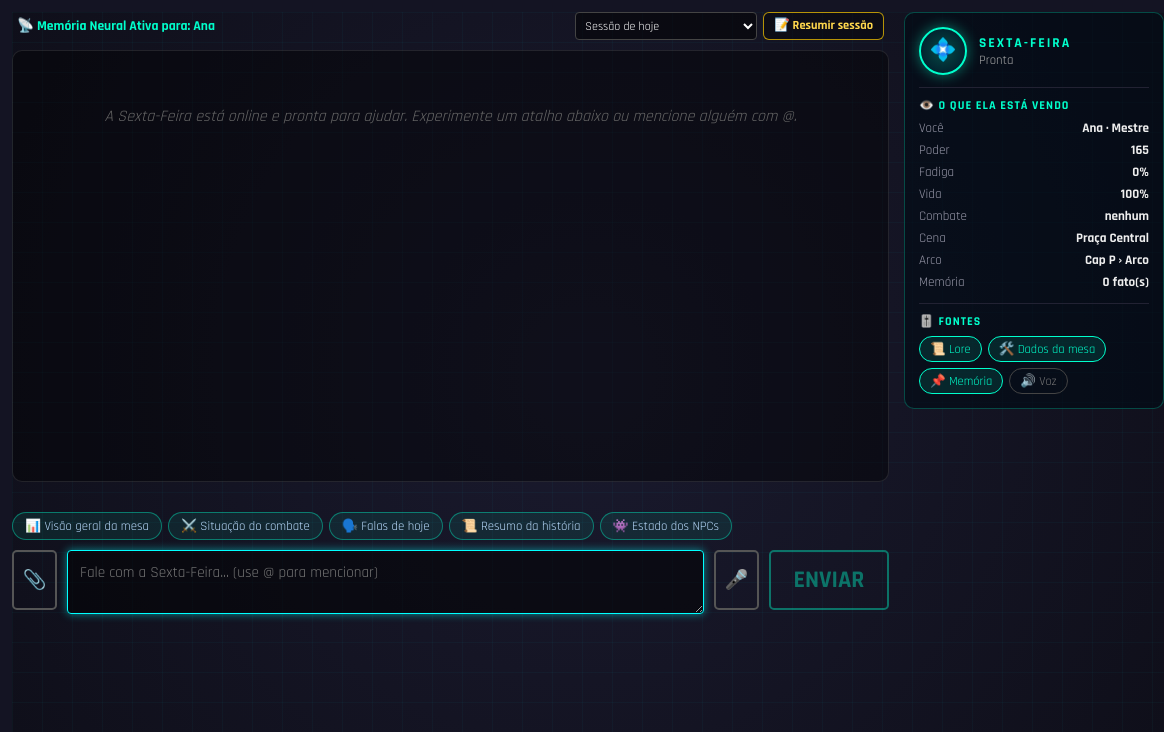
Scenario: CartaoProposta - Mestre › NPC mostra quantidade e cena; Tier List mostra capitulo e a lista de ranks
The width and height of the screenshot is (1164, 732).
Step 1. Type "crie algo" into the text box named "Mensagem para a Sexta-Feira" → x=386, y=582, box [67,550,704,614]
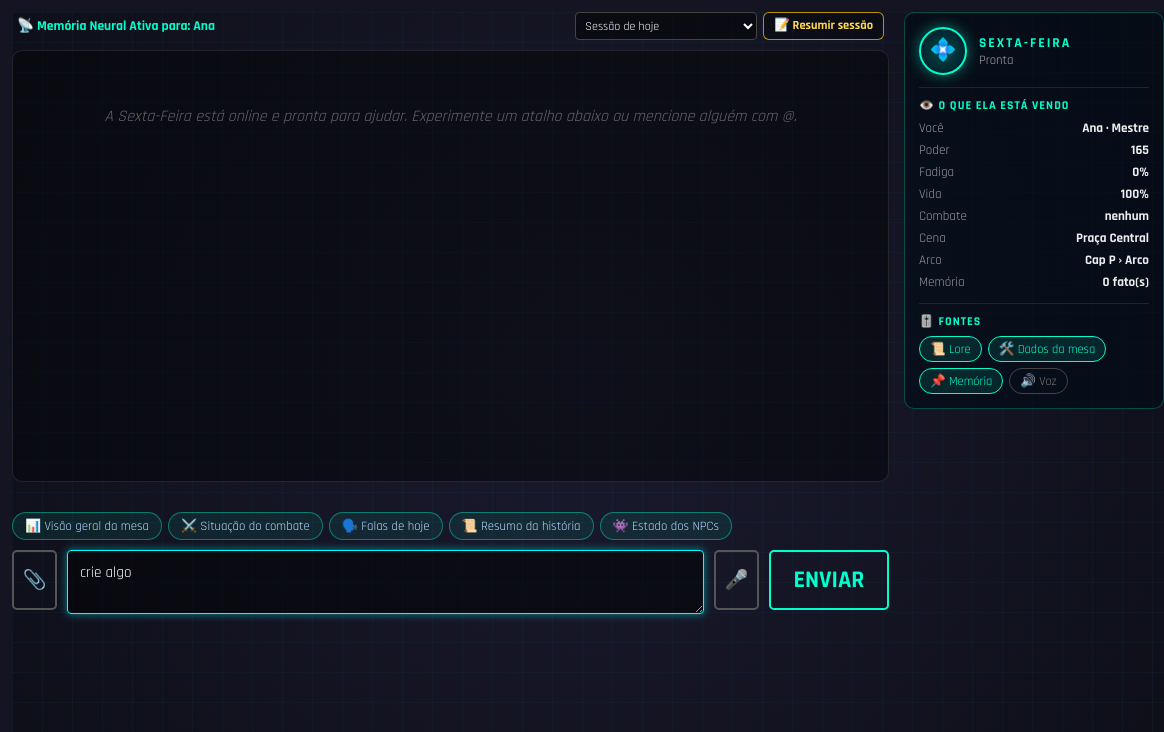
Step 2. Click the button "ENVIAR" → x=829, y=580, box [769,550,889,610]
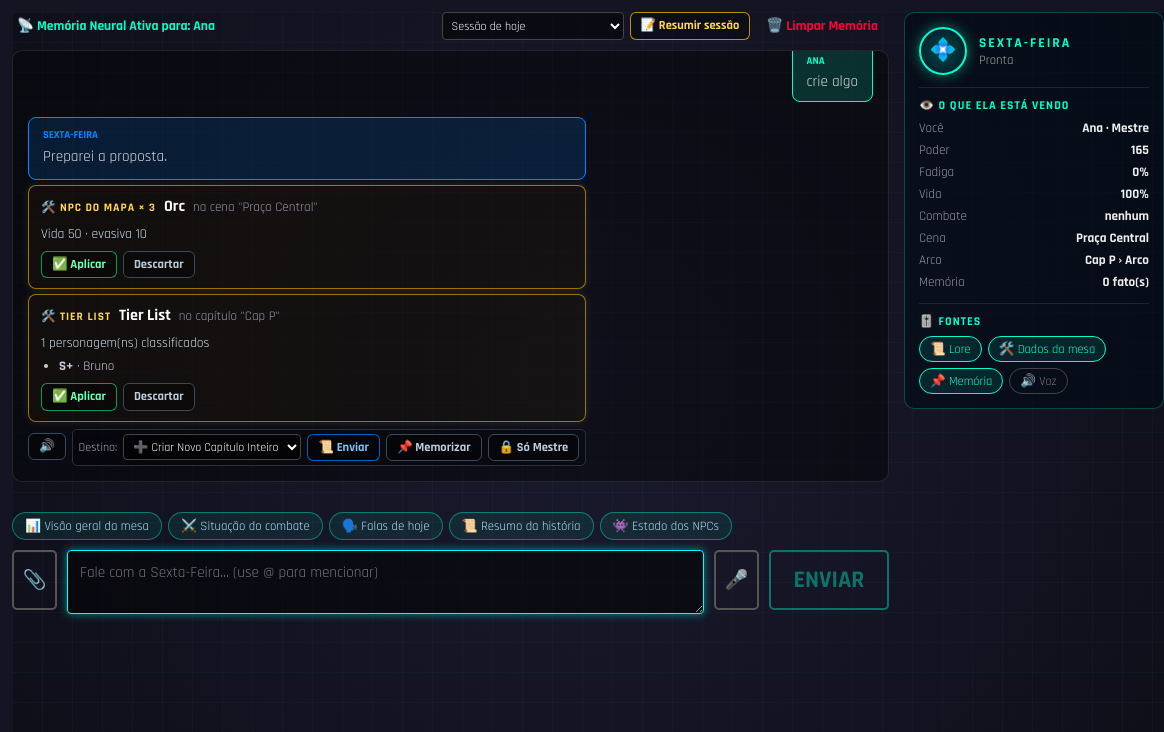
Expected: the element with class "sexta-criacao" shows "NPC do Mapa × 3", [28,185,586,289]
Expected: the element with class "sexta-criacao" shows "na cena \"Praça Central\"", [28,185,586,289]
Expected: the text with class "sexta-criacao-nome" reads "Orc", [164,196,185,217]
